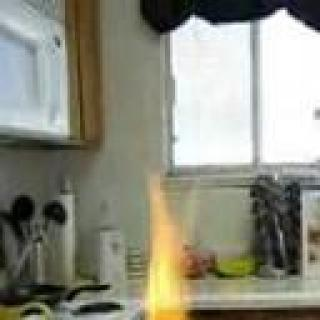fire: (128, 171, 274, 320)
